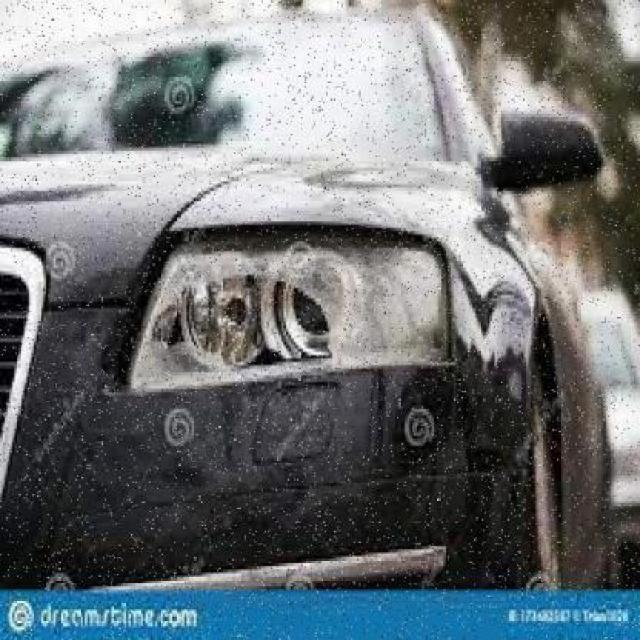Headlight-Damage: (109, 202, 483, 380)
